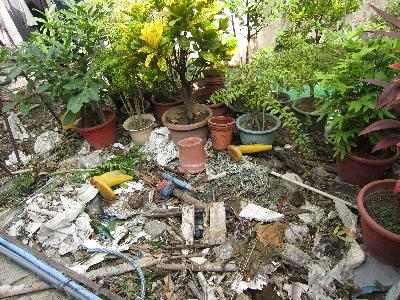bowl: (176, 135, 208, 175), (207, 115, 235, 151)
